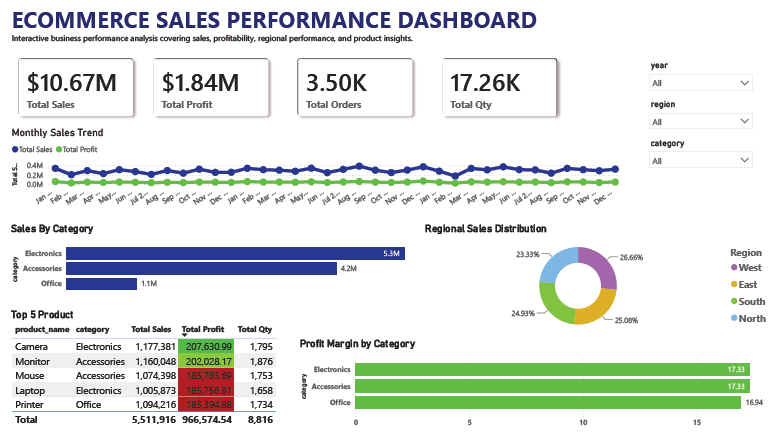

The dashboard page shown, as its layout file describes it:
{"tool":"powerbi","page":{"name":"Page 1","canvas":[1280,720],"ordinal":0},"visuals":[{"type":"textbox","box":[0,0,1184,64],"z":0},{"type":"cardVisual","fields":{"Data":["ecommerce_project master_sales_dashboard.Total Sales"]},"box":[0,80,224,128],"z":1000},{"type":"lineChart","title":"Monthly Sales Trend","fields":{"Y":["ecommerce_project master_sales_dashboard.Total Sales","ecommerce_project master_sales_dashboard.Total Profit"],"Category":["ecommerce_project master_sales_dashboard.month_year"]},"box":[0,208,1024,144],"z":2000},{"type":"clusteredBarChart","title":"Sales By Category","fields":{"Category":["ecommerce_project master_sales_dashboard.category"],"Y":["ecommerce_project master_sales_dashboard.Total Sales"]},"box":[0,368,688,128],"z":3000},{"type":"donutChart","title":"Regional Sales Distribution","fields":{"Category":["ecommerce_project master_sales_dashboard.region"],"Y":["ecommerce_project master_sales_dashboard.Total Sales"]},"box":[688,368,592,192],"z":4000},{"type":"tableEx","title":"Top 5 Product","fields":{"Values":["ecommerce_project master_sales_dashboard.product_name","ecommerce_project master_sales_dashboard.category","ecommerce_project master_sales_dashboard.Total Sales","ecommerce_project master_sales_dashboard.Total Profit","ecommerce_project master_sales_dashboard.Total Qty"]},"box":[0,512,464,208],"z":5000},{"type":"textbox","box":[0,48,704,32],"z":6000},{"type":"cardVisual","fields":{"Data":["ecommerce_project master_sales_dashboard.Total Profit"]},"box":[224,80,224,128],"z":7000},{"type":"cardVisual","fields":{"Data":["ecommerce_project master_sales_dashboard.Total Orders"]},"box":[464,80,224,128],"z":8000},{"type":"cardVisual","fields":{"Data":["ecommerce_project master_sales_dashboard.Total Qty"]},"box":[704,80,224,128],"z":9000},{"type":"slicer","fields":{"Values":["ecommerce_project master_sales_dashboard.year"]},"box":[1054.3,94.3,192,64],"z":10000},{"type":"slicer","fields":{"Values":["ecommerce_project master_sales_dashboard.region"]},"box":[1054.3,158.3,192,64],"z":11000},{"type":"slicer","fields":{"Values":["ecommerce_project master_sales_dashboard.category"]},"box":[1054.3,222.3,192,64],"z":12000},{"type":"barChart","title":"Profit Margin by Category","fields":{"Category":["ecommerce_project master_sales_dashboard.category"],"Y":["ecommerce_project master_sales_dashboard.Profit Margin %"]},"box":[480,560,800,160],"z":13000}]}

Visuals, with their boxes in screenshot pixels (x1, y1, x2, y2), scaled from the page's 1280x720 canvas onto the 782x446 screenshot:
textbox: [left=0, top=0, right=723, bottom=40]
cardVisual - ecommerce_project master_sales_dashboard.Total Sales: [left=0, top=50, right=137, bottom=129]
"Monthly Sales Trend" lineChart: [left=0, top=129, right=626, bottom=218]
"Sales By Category" clusteredBarChart: [left=0, top=228, right=420, bottom=307]
"Regional Sales Distribution" donutChart: [left=420, top=228, right=781, bottom=347]
"Top 5 Product" tableEx: [left=0, top=317, right=283, bottom=445]
textbox: [left=0, top=30, right=430, bottom=50]
cardVisual - ecommerce_project master_sales_dashboard.Total Profit: [left=137, top=50, right=274, bottom=129]
cardVisual - ecommerce_project master_sales_dashboard.Total Orders: [left=283, top=50, right=420, bottom=129]
cardVisual - ecommerce_project master_sales_dashboard.Total Qty: [left=430, top=50, right=567, bottom=129]
slicer - ecommerce_project master_sales_dashboard.year: [left=644, top=58, right=761, bottom=98]
slicer - ecommerce_project master_sales_dashboard.region: [left=644, top=98, right=761, bottom=138]
slicer - ecommerce_project master_sales_dashboard.category: [left=644, top=138, right=761, bottom=177]
"Profit Margin by Category" barChart: [left=293, top=347, right=781, bottom=445]
